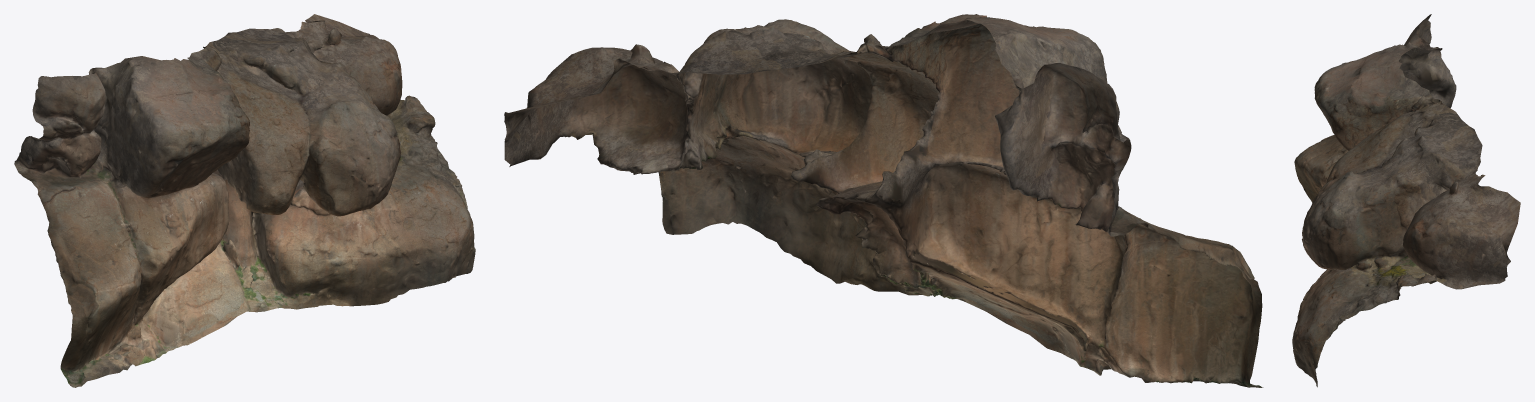
Rendered from namaqualand_cliff_01_4k.fbx.
3 renders of one model, left to right at view 1: azimuth 30°, elevation 25°; view 2: azimuth 150°, elevation 25°; view 3: azimuth 270°, elevation 25°, orthographic. The views are drawn at different scales.
Visible parts, largest first — view 1: namaqualand_cliff_01_LOD0; view 2: namaqualand_cliff_01_LOD0; view 3: namaqualand_cliff_01_LOD0.
Part boxes in pixels (left/top/right/bottom): namaqualand_cliff_01_LOD0: left=14, top=14, right=475, bottom=387; namaqualand_cliff_01_LOD0: left=504, top=14, right=1263, bottom=387; namaqualand_cliff_01_LOD0: left=1292, top=14, right=1520, bottom=387.
Size of the model in its own units: 828 by 496 by 439.
Materials: 1 (1 with a texture image).
